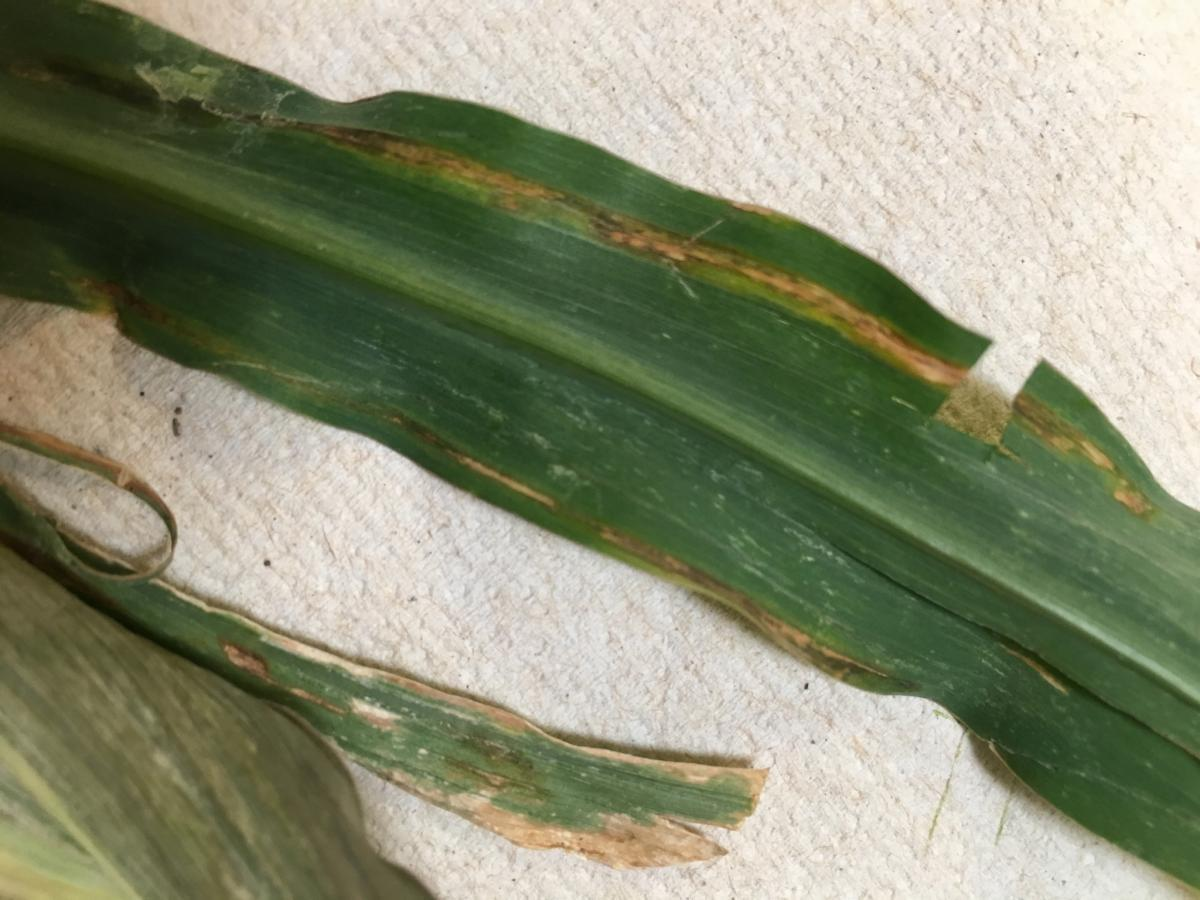Corn_Blight: (16, 27, 1158, 547), (30, 563, 568, 859), (575, 569, 1093, 825)
